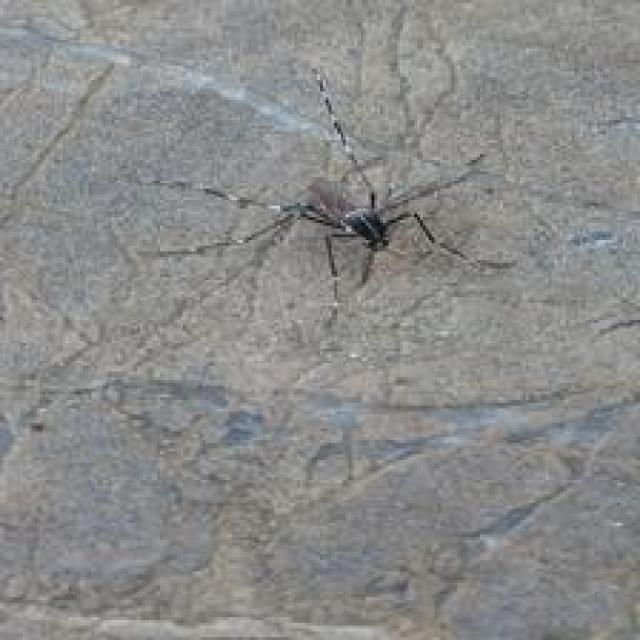Aedes albopictus: (133, 64, 516, 324)
